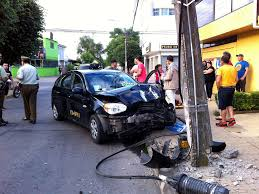acc: (47, 64, 192, 170)
